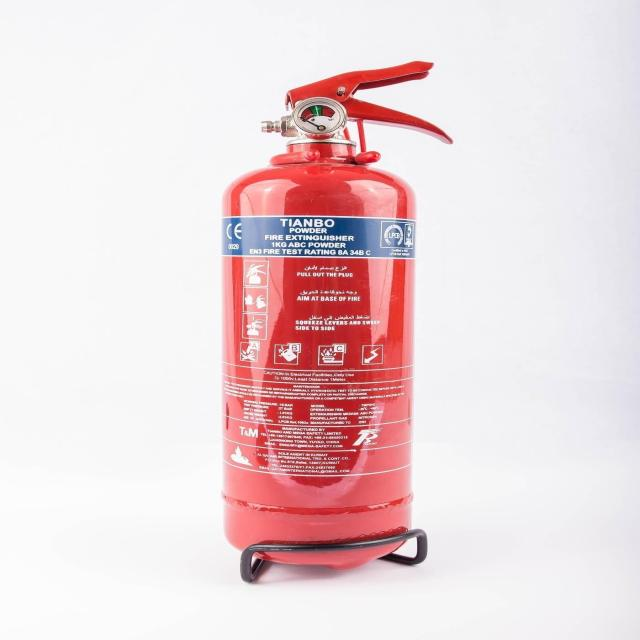fire_extinguisher: (210, 59, 458, 574)
